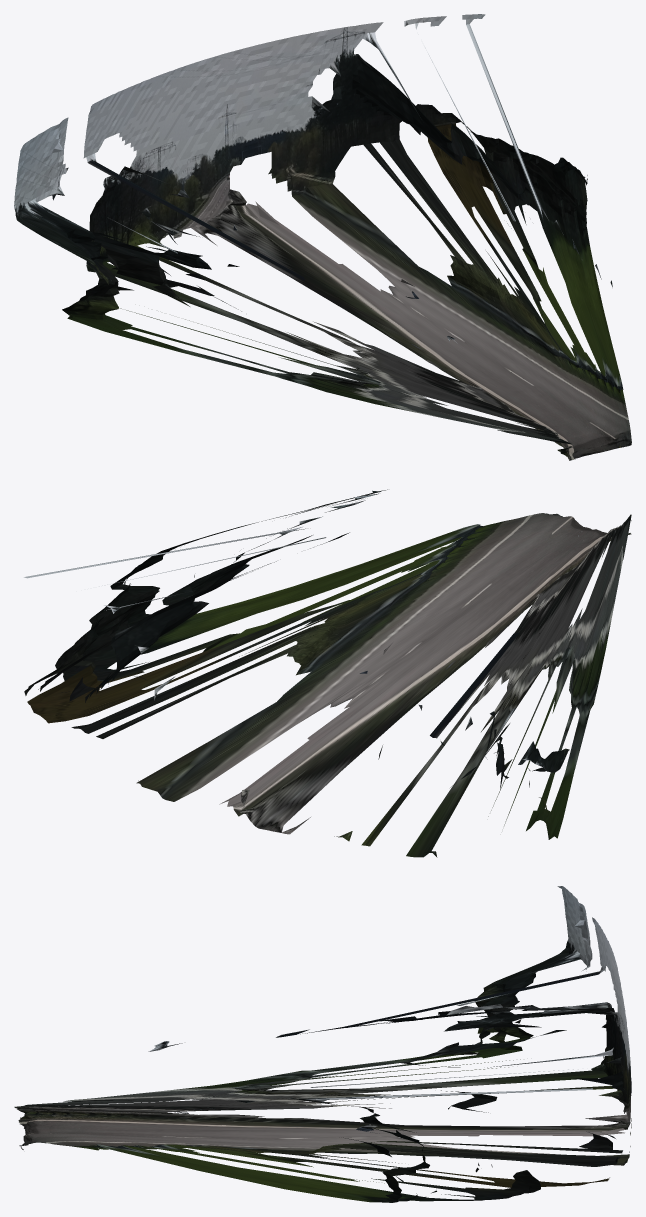
3 renders of one model, top to bottom at view 1: azimuth 30°, elevation 25°; view 2: azimuth 150°, elevation 25°; view 3: azimuth 270°, elevation 25°, orthographic. The views are drawn at different scales.
Visible parts, largest first — view 1: defaultobject; view 2: defaultobject; view 3: defaultobject.
Boxes of the visible parts, <box> form: defaultobject: <box>14,14,631,460</box>; defaultobject: <box>24,489,631,857</box>; defaultobject: <box>14,886,631,1202</box>.
Size of the model in its own units: 35.98 by 12.45 by 44.91.
Materials: 1 (1 with a texture image).
